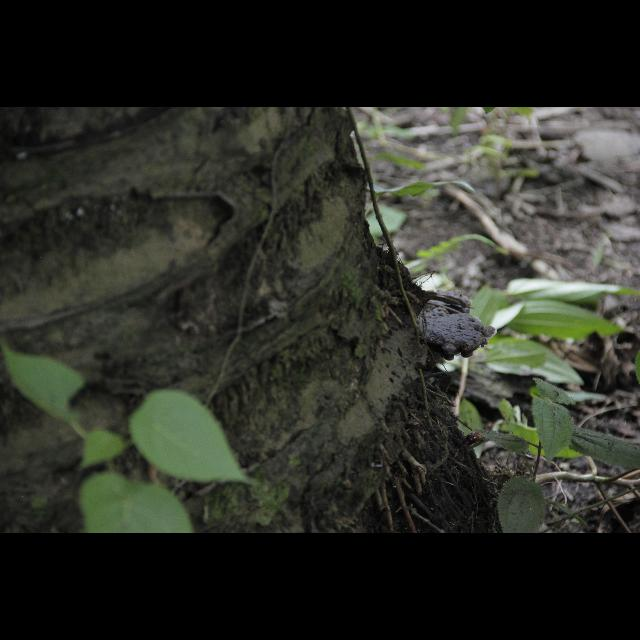ganoderma: (420, 314, 499, 362)
